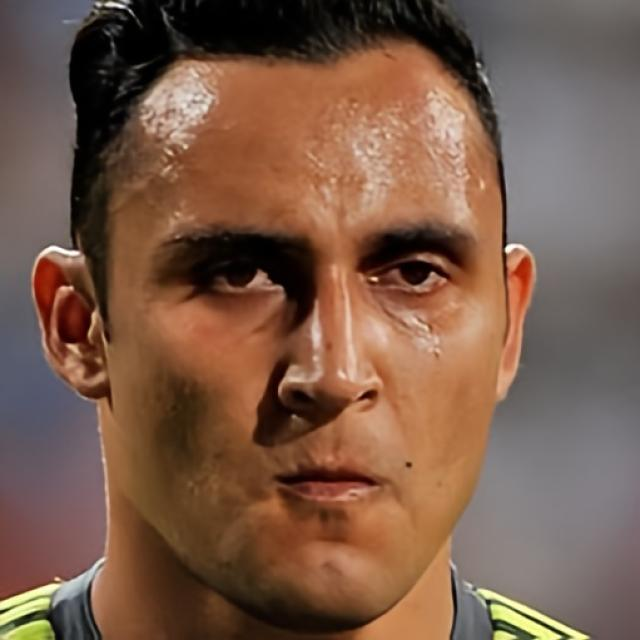anger: (106, 37, 506, 618)
